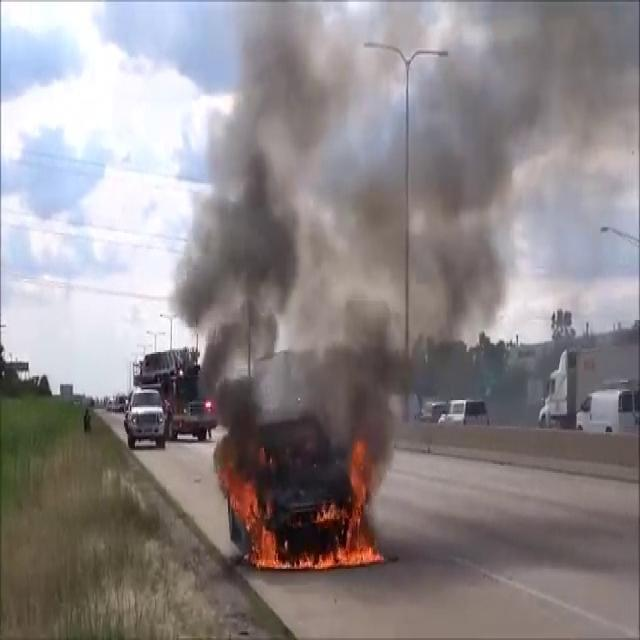Fire: (230, 442, 384, 575)
Smoke: (180, 0, 630, 423)
